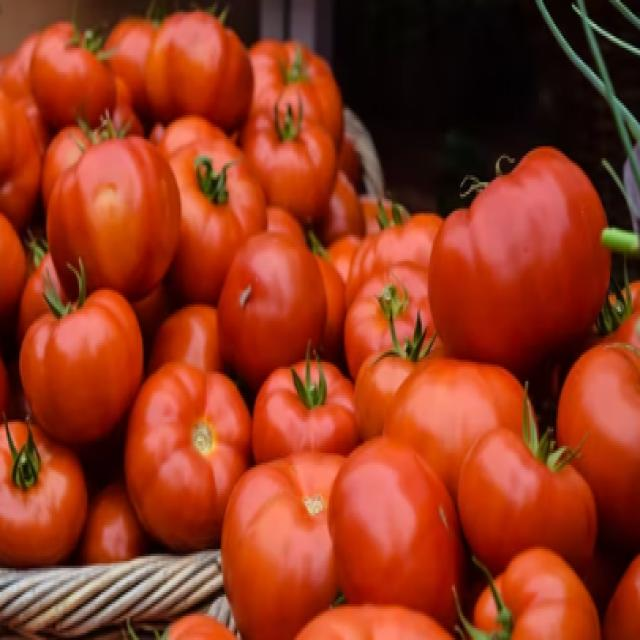Tomato: (19, 272, 156, 448)
